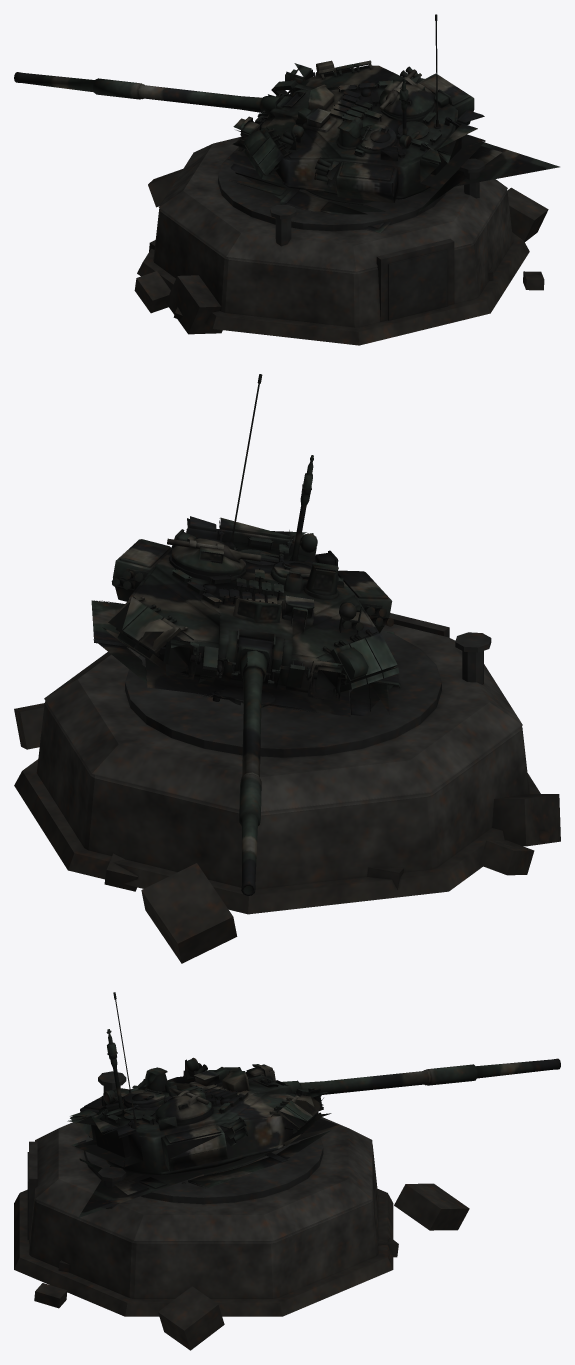
The model's file is gun-wreck.glb.
3 renders of one model, top to bottom at view 1: azimuth 30°, elevation 25°; view 2: azimuth 150°, elevation 25°; view 3: azimuth 270°, elevation 25°, orthographic. The views are drawn at different scales.
Visible parts, largest first — view 1: hull, turret, barrel; view 2: hull, turret, barrel; view 3: hull, turret, barrel.
Part boxes in pixels (x1,y1,x2,y2): hull: [134, 137, 548, 345]; turret: [227, 14, 559, 233]; barrel: [14, 72, 284, 117]; hull: [14, 613, 560, 963]; turret: [91, 374, 400, 716]; barrel: [238, 648, 281, 895]; hull: [14, 1071, 469, 1350]; turret: [67, 992, 340, 1217]; barrel: [275, 1058, 560, 1094].
Bounding box in the file's own units: 6.6 × 4.58 × 7.77.
1 material, 1 textured.
